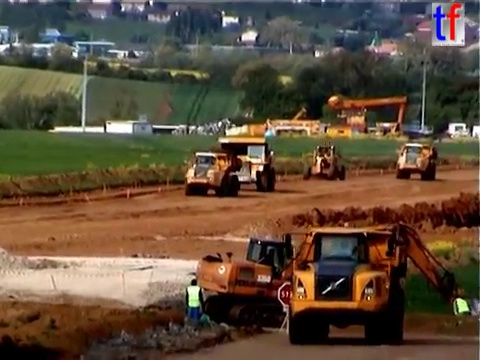crane: (326, 92, 410, 141)
excavator: (193, 219, 480, 337)
motor grader: (302, 143, 346, 181)
truck: (282, 225, 410, 346), (214, 134, 276, 192), (182, 148, 243, 198), (393, 142, 439, 181)
worker: (182, 274, 205, 336), (449, 291, 474, 339)
